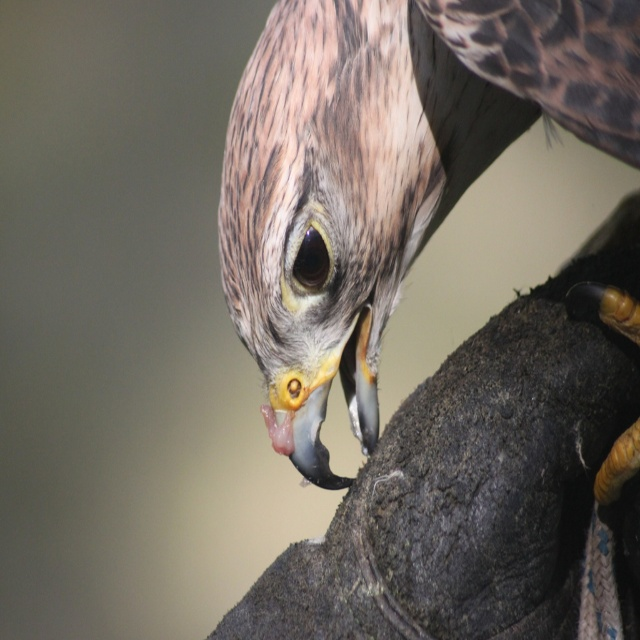Owl: (218, 0, 640, 640)
